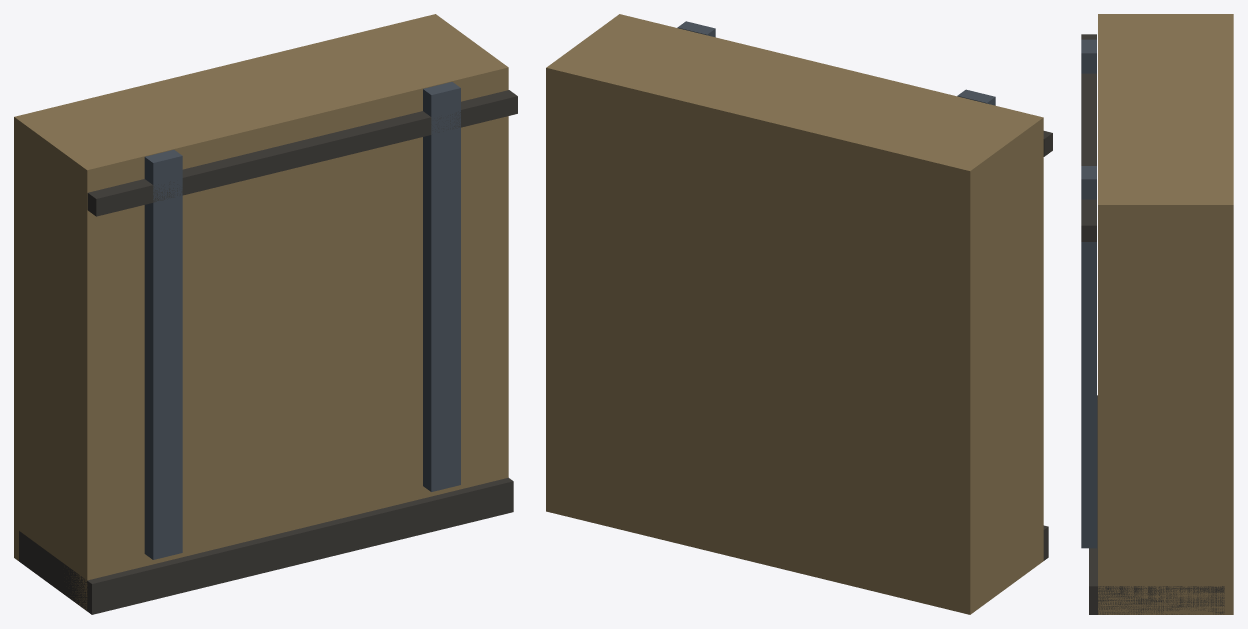
Rendered from separatist_wall.glb.
3 renders of one model, left to right at view 1: azimuth 30°, elevation 25°; view 2: azimuth 150°, elevation 25°; view 3: azimuth 270°, elevation 25°, orthographic. The views are drawn at different scales.
Visible parts, largest first — view 1: separatist_wall; view 2: separatist_wall; view 3: separatist_wall.
Part boxes in pixels (x1,y1,x2,y2): separatist_wall: (14,14,517,614); separatist_wall: (546,14,1052,614); separatist_wall: (1081,14,1233,614).
Size of the model in its own units: 1 by 1 by 0.3375.
